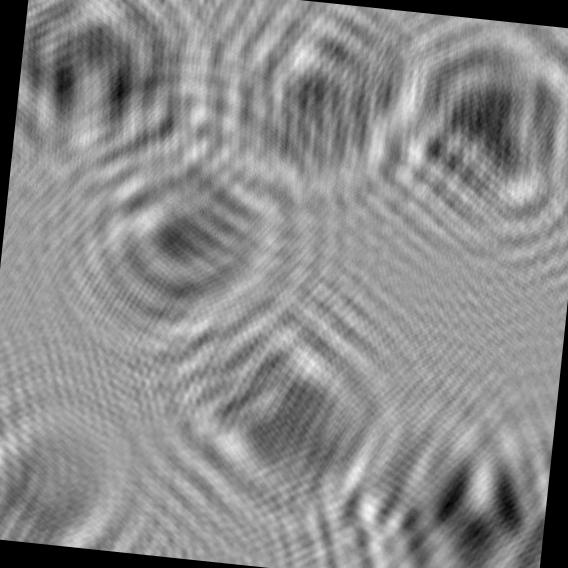A: (352, 8, 568, 284)
I: (0, 373, 179, 556)
J: (117, 258, 429, 566), (30, 97, 351, 394)
L: (173, 0, 436, 231)
M: (8, 0, 244, 218)
W: (304, 369, 558, 568)
